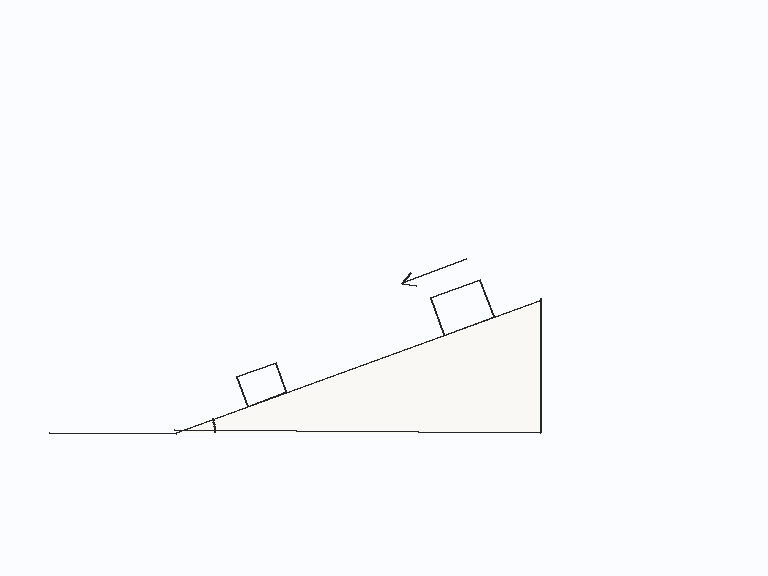block: (428, 277, 496, 336), (235, 361, 289, 408)
ramp: (173, 297, 542, 434)
